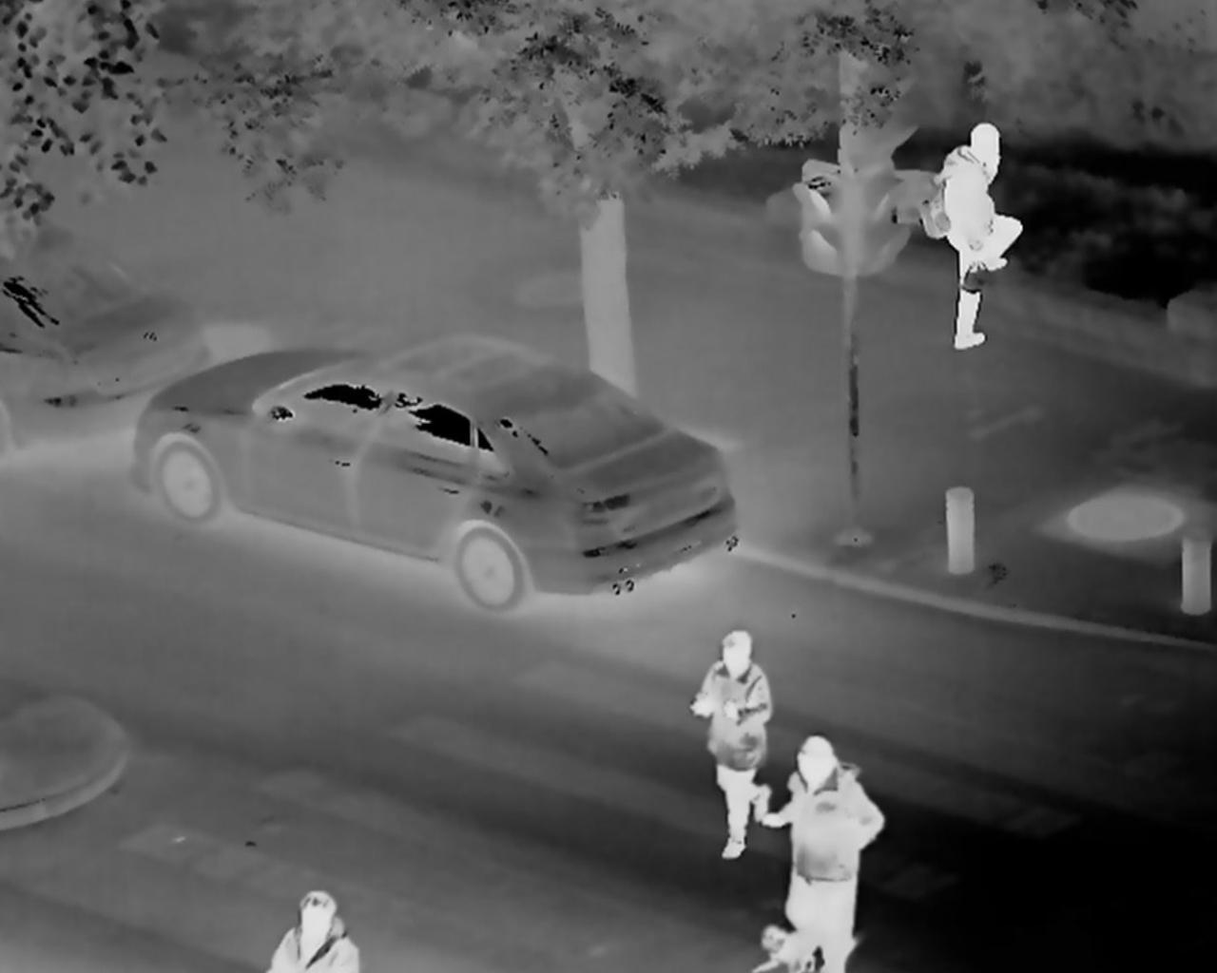person: (912, 108, 1027, 371), (770, 731, 877, 973), (685, 629, 799, 842), (274, 885, 373, 973)
